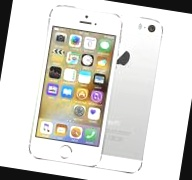iphone: (79, 12, 155, 167)
